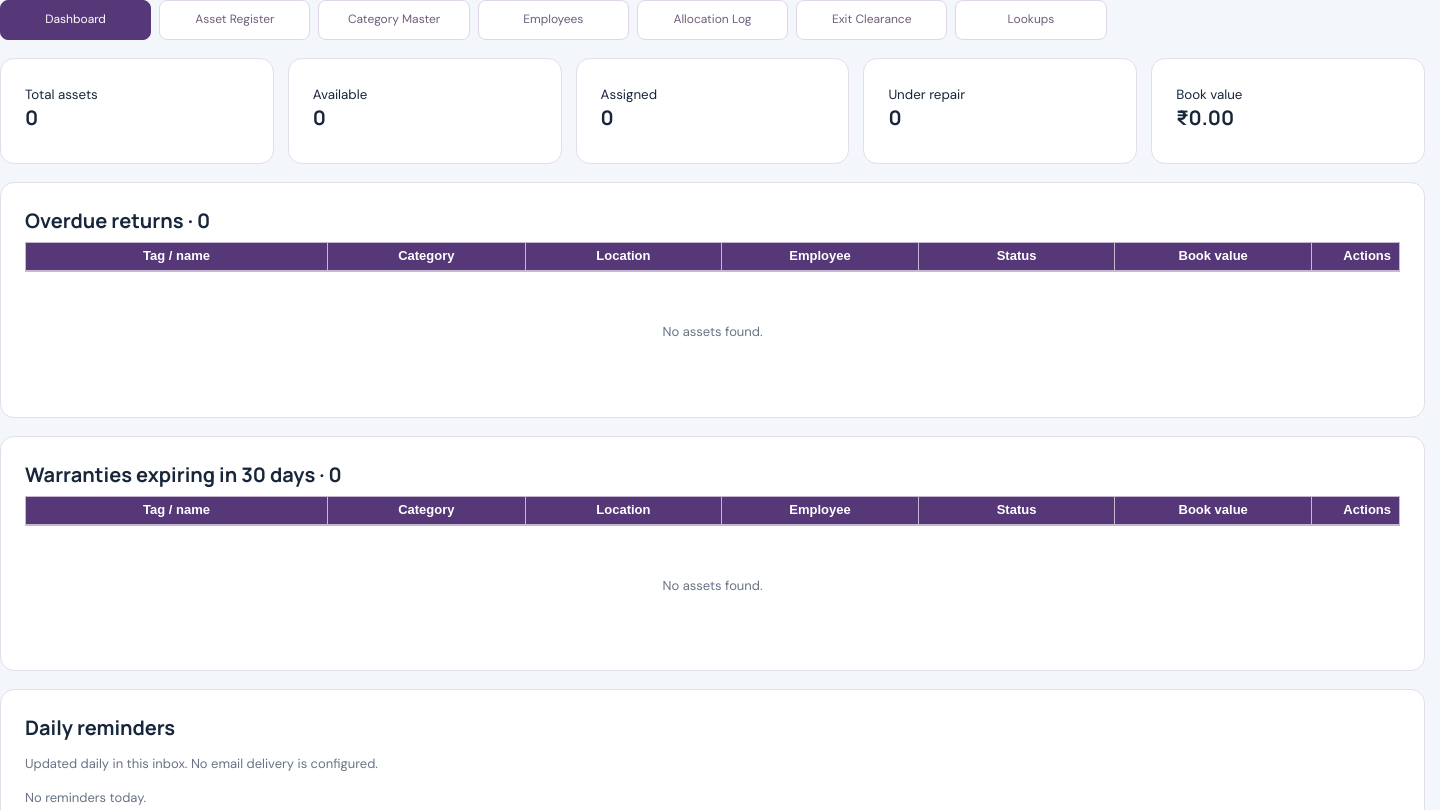
Scenario: manager sees register and cannot create assets or access settings
The image size is (1440, 810).
Expected: the text "Total assets" is shown, x1=25 y1=86 x2=98 y2=103
What coordinates should you click on to do the following:
click the button "Asset Register"
I would click on:
 (235, 20)
Its box is x1=159 y1=0 x2=310 y2=40.
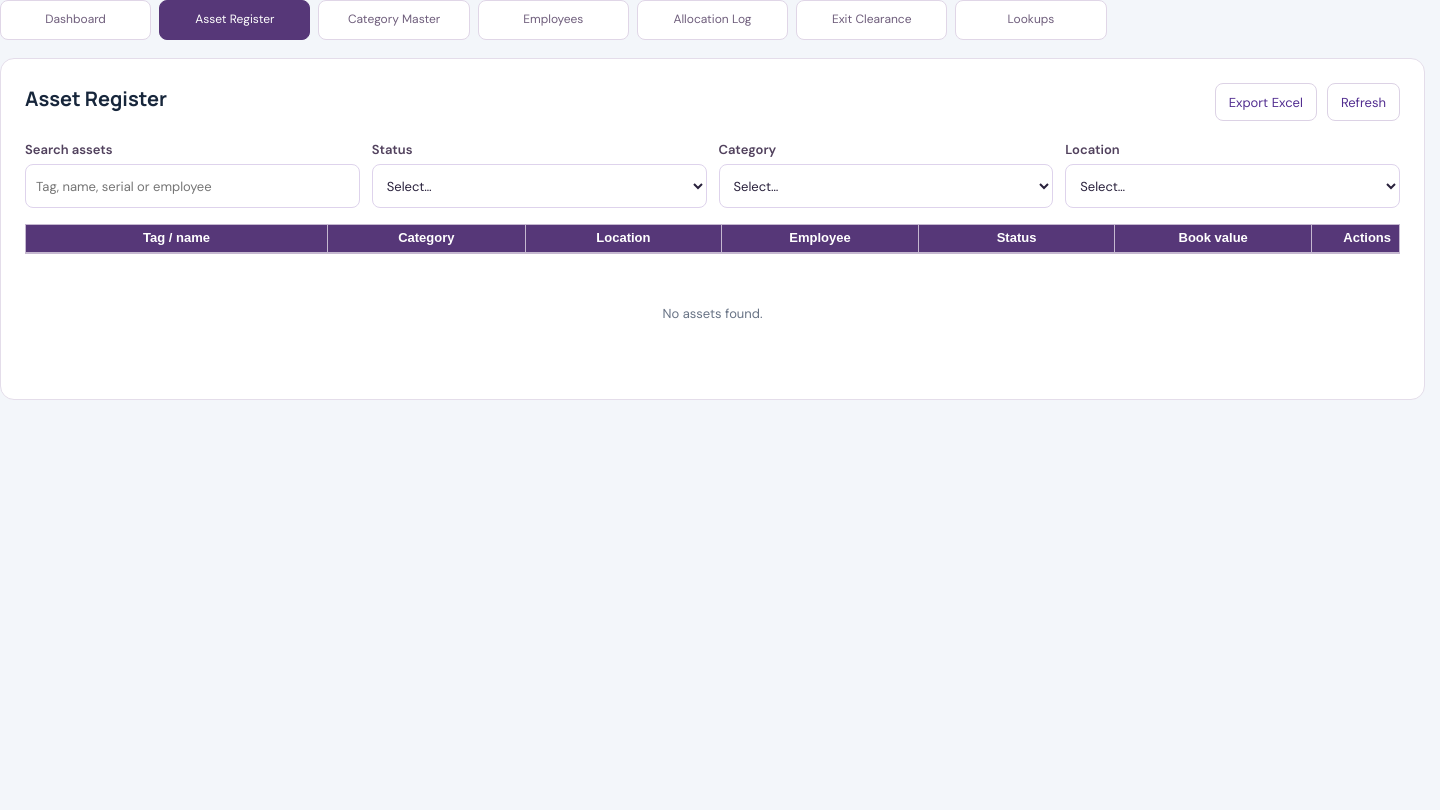
Expected: the button "Export Excel" is shown, x1=1215 y1=83 x2=1317 y2=121
